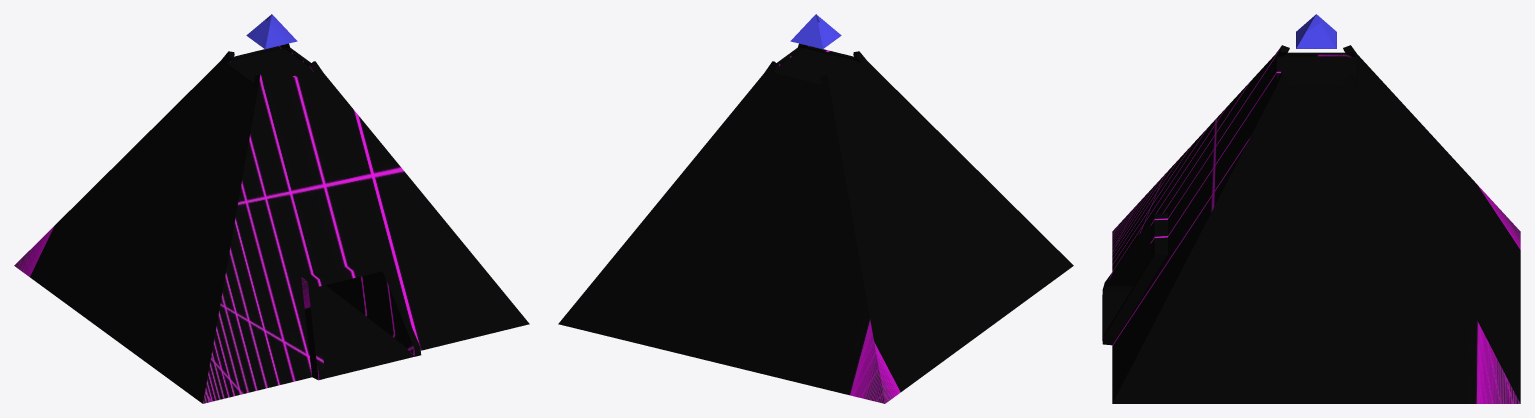
File: piramideboss.obj
The picture shows the model from 3 angles, left to right: view 1: azimuth 30°, elevation 25°; view 2: azimuth 150°, elevation 25°; view 3: azimuth 270°, elevation 25°; orthographic projection. The views are drawn at different scales.
Parts seen in each view (by area): view 1: Plane, Cube_Cube.001; view 2: Plane, Cube_Cube.001; view 3: Plane, Cube_Cube.001.
Part boxes in pixels (x1,y1,x2,y2): Plane: [14, 43, 529, 403]; Cube_Cube.001: [246, 14, 297, 49]; Plane: [558, 43, 1073, 403]; Cube_Cube.001: [790, 14, 841, 49]; Plane: [1102, 45, 1520, 403]; Cube_Cube.001: [1296, 14, 1336, 48].
Size of the model in its own units: 150 by 123 by 154.
